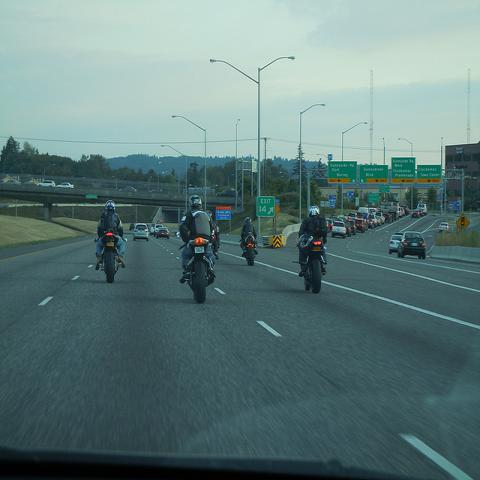car: (6, 174, 430, 242), (398, 232, 426, 262), (131, 222, 149, 241), (390, 235, 402, 254), (156, 226, 170, 240), (152, 224, 164, 236), (355, 219, 365, 232), (439, 222, 449, 233), (412, 209, 423, 218), (367, 218, 375, 230), (349, 211, 358, 221), (376, 215, 382, 226), (363, 220, 368, 230), (330, 216, 339, 221)
motorcycle: (186, 238, 214, 305), (303, 239, 327, 294), (100, 230, 122, 283), (210, 226, 221, 260), (244, 235, 256, 266)
